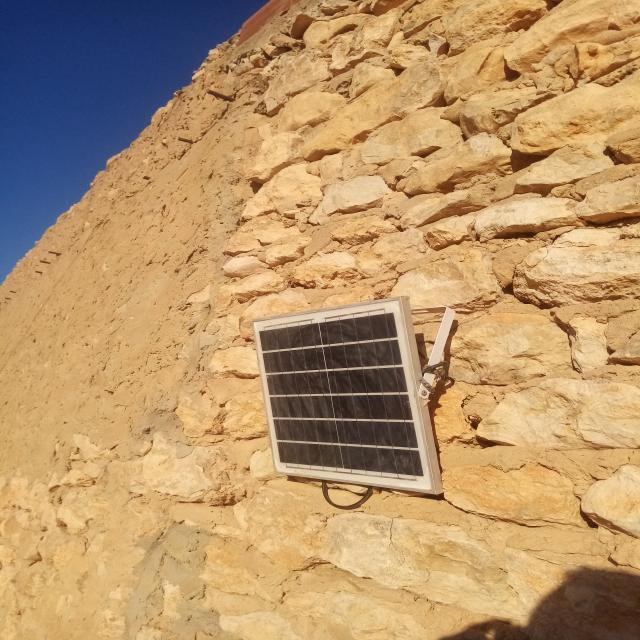faulty: (253, 297, 432, 490)
